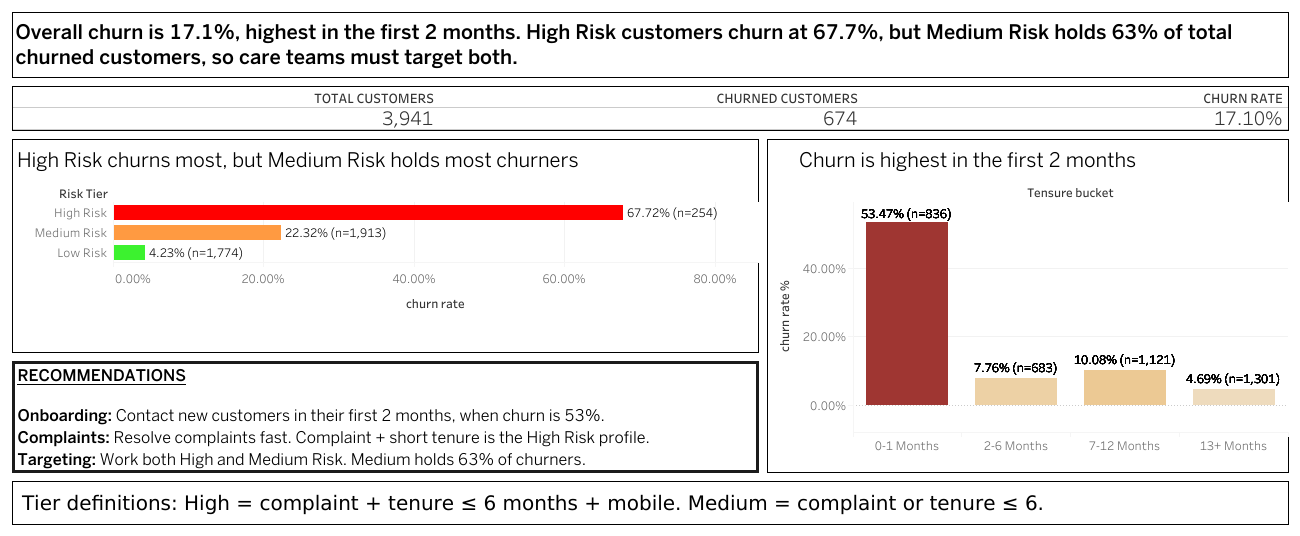

The page's visual inventory and layout, read from the dashboard file:
{"tool":"tableau","page":{"name":"Dashboard 1","canvas":[1000,1000],"units":"permille","ordinal":0},"visuals":[{"type":"text","box":[6.9,13.5,986.1,138.5]},{"type":"worksheet","title":"Sheet 1","mark":"Automatic","box":[6.9,152,986.1,98]},{"type":"worksheet","title":"Risk Tier breakdown","mark":"Automatic","rows":["risk_tier"],"cols":["Calculation_0483022963478528"],"box":[6.9,250,544.6,736.5]},{"type":"worksheet","title":"Tensure drop off curve","mark":"Bar","rows":["Calculation_0483022963478528"],"cols":["Calculation_1094076938600448"],"box":[551.5,250,441.6,736.5]}]}

Visuals, with their boxes on the dashboard's canvas, which has no fixed pixel size, in thousandths of its width and height (x1, y1, x2, y2). These are canvas units, not pixel positions in the 1300x536 screenshot, which may show the page scaled, cropped or inside an application window:
text: 7/14/993/152
"Sheet 1" worksheet: 7/152/993/250
"Risk Tier breakdown" worksheet: 7/250/552/986
"Tensure drop off curve" worksheet (Bar marks): 552/250/993/986
